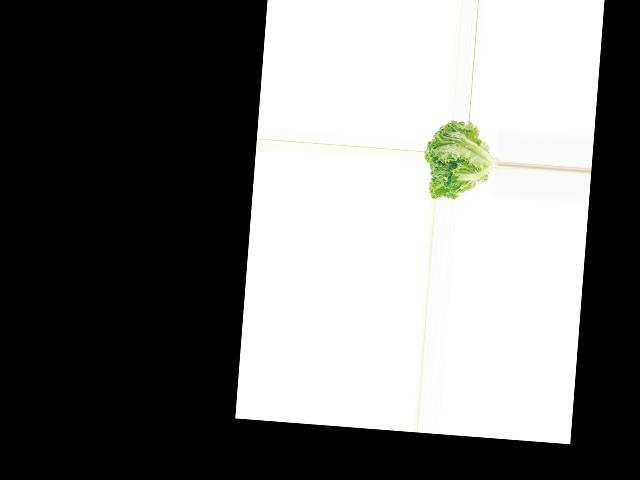lettuce: (421, 118, 502, 203)
